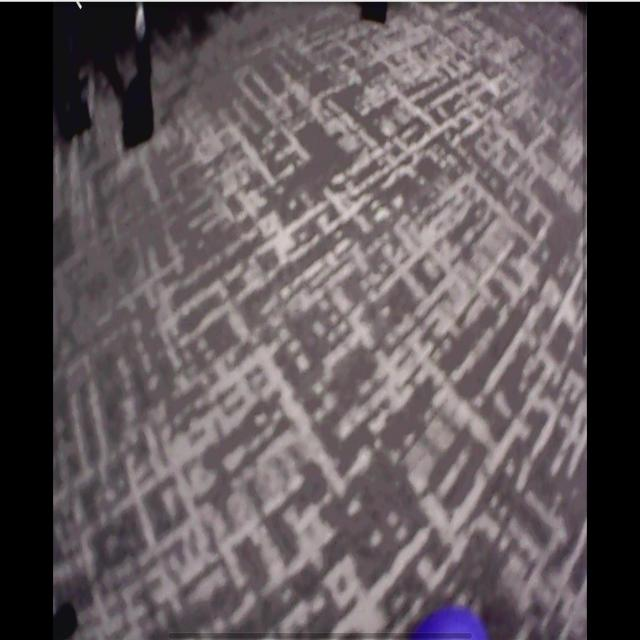ball: (407, 609, 493, 640)
